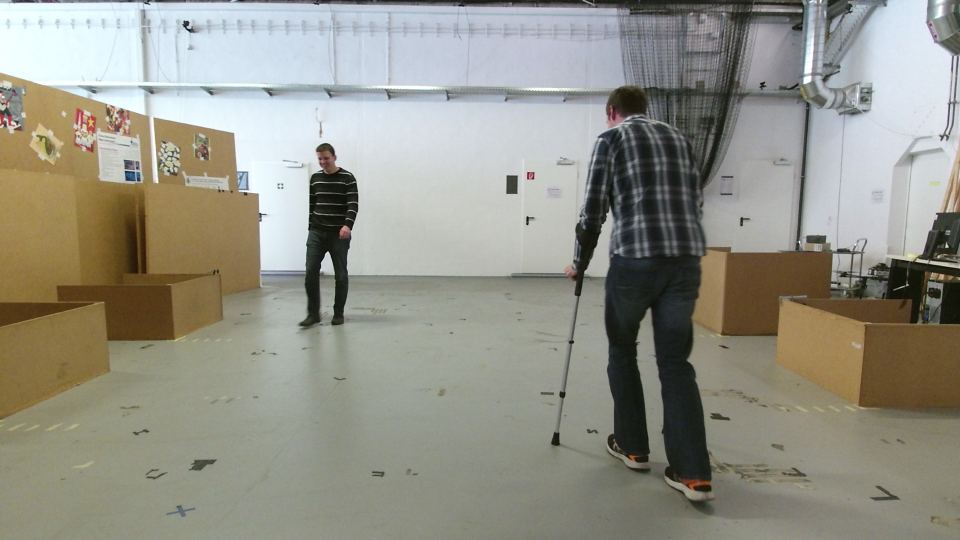crutches: (544, 68, 724, 514)
